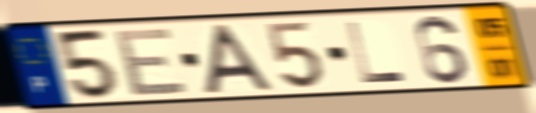5: (52, 26, 122, 101), (262, 20, 326, 90)
6: (412, 12, 470, 86)
A: (201, 21, 278, 96)
E: (113, 25, 192, 99)
L: (343, 19, 410, 86)
